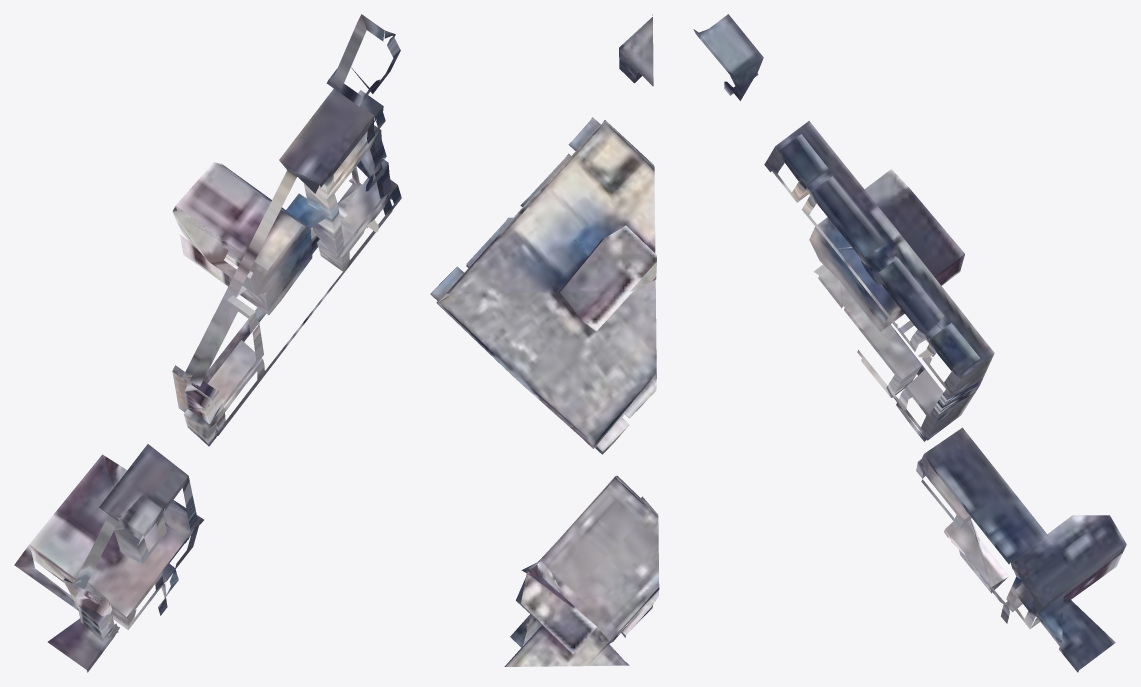
The picture shows the model from 3 angles, left to right: view 1: azimuth 30°, elevation 25°; view 2: azimuth 150°, elevation 25°; view 3: azimuth 270°, elevation 25°; orthographic projection. The views are drawn at different scales.
Size of the model in its own units: 28.15 by 61.64 by 36.67.
Materials: 1 (1 with a texture image).
